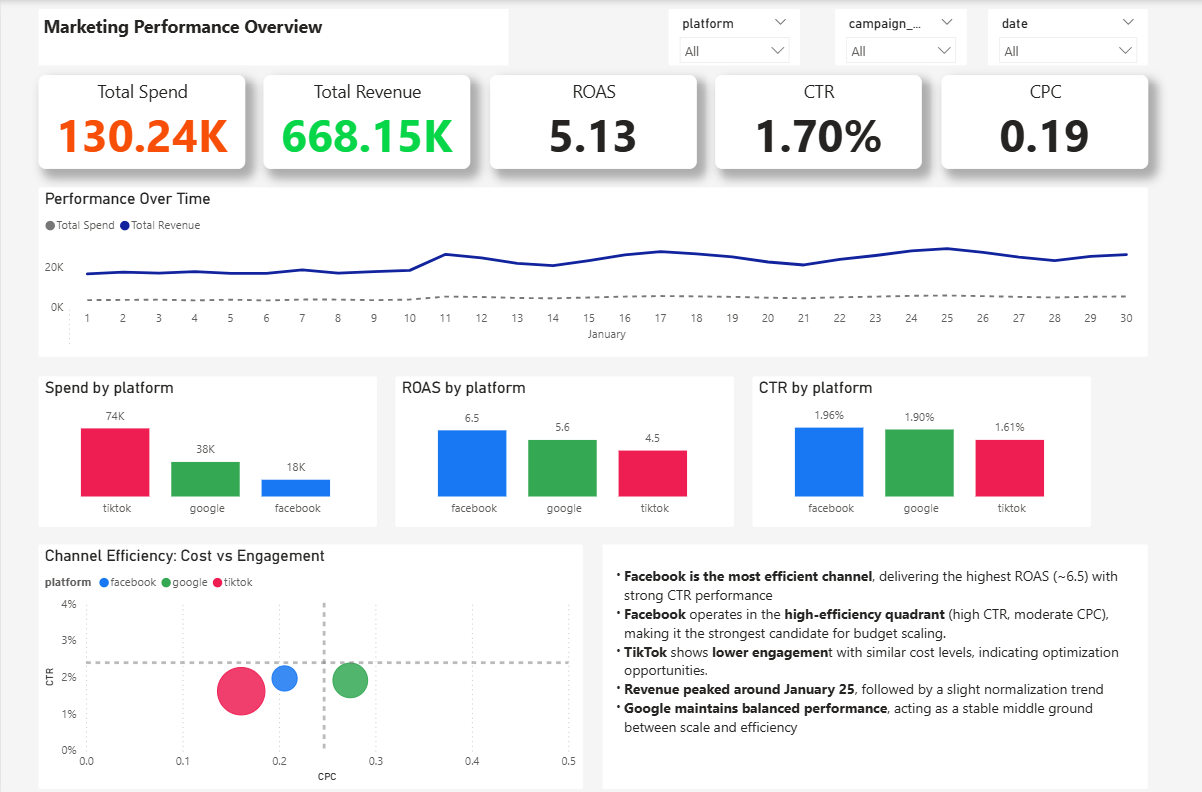

The page's visual inventory and layout, read from the dashboard file:
{"tool":"powerbi","page":{"name":"Page 1","canvas":[1280,850],"ordinal":0},"visuals":[{"type":"card","title":"Total Spend","fields":{"Values":["Measures (2).Total Spend"]},"box":[40,80,220,100],"z":0},{"type":"card","title":"CTR","fields":{"Values":["Measures (2).CTR"]},"box":[760,80,220,100],"z":1000},{"type":"card","title":"CPC","fields":{"Values":["Measures (2).CPC"]},"box":[1000,80,220,100],"z":2000},{"type":"card","title":"ROAS","fields":{"Values":["Measures (2).ROAS"]},"box":[520,80,220,100],"z":3000},{"type":"clusteredColumnChart","title":"Spend by platform","fields":{"Category":["unified_ads_clean.platform"],"Y":["Measures (2).Total Spend"]},"box":[40,400,360,160],"z":4000},{"type":"clusteredColumnChart","fields":{"Y":["Measures (2).CTR"],"Category":["unified_ads_clean.platform"]},"box":[800,401.2,360,160],"z":5000},{"type":"clusteredColumnChart","fields":{"Y":["Measures (2).ROAS"],"Category":["unified_ads_clean.platform"]},"box":[420,400,360,160],"z":6000},{"type":"lineChart","title":"Performance Over Time","fields":{"Y":["Measures (2).Total Spend","Measures (2).Total Revenue"],"Category":["Calendar.Date.Variation.Date Hierarchy.Month","Calendar.Date.Variation.Date Hierarchy.Day"]},"box":[40,200,1180,180],"z":7000},{"type":"scatterChart","title":"Channel Efficiency: Cost vs Engagement","fields":{"X":["Measures (2).CPC"],"Y":["Measures (2).CTR"],"Series":["unified_ads_clean.platform"],"Size":["Measures (2).Total Spend"]},"box":[40,580,579,260],"z":9000},{"type":"slicer","fields":{"Values":["unified_ads_clean.platform"]},"box":[710,10,140,60],"z":10000},{"type":"slicer","fields":{"Values":["unified_ads_clean.campaign_name"]},"box":[887.1,10,140,60],"z":11000},{"type":"slicer","fields":{"Values":["unified_ads_clean.date"]},"box":[1050,10,170,60],"z":12000},{"type":"card","title":"Total Revenue","fields":{"Values":["Measures (2).Total Revenue"]},"box":[280,80,220,100],"z":13000},{"type":"textbox","box":[40,10,500,60],"z":15000},{"type":"textbox","box":[640,580,580,260],"z":16000}]}

Visuals, with their boxes in screenshot pixels (x1, y1, x2, y2), scaled from the page's 1280x850 canvas onto the 1202x792 screenshot:
"Total Spend" card: locate(38, 75, 244, 168)
"CTR" card: locate(714, 75, 920, 168)
"CPC" card: locate(939, 75, 1146, 168)
"ROAS" card: locate(488, 75, 695, 168)
"Spend by platform" clusteredColumnChart: locate(38, 373, 376, 522)
clusteredColumnChart - Measures (2).CTR x unified_ads_clean.platform: locate(751, 374, 1089, 523)
clusteredColumnChart - Measures (2).ROAS x unified_ads_clean.platform: locate(394, 373, 732, 522)
"Performance Over Time" lineChart: locate(38, 186, 1146, 354)
"Channel Efficiency: Cost vs Engagement" scatterChart: locate(38, 540, 581, 783)
slicer - unified_ads_clean.platform: locate(667, 9, 798, 65)
slicer - unified_ads_clean.campaign_name: locate(833, 9, 965, 65)
slicer - unified_ads_clean.date: locate(986, 9, 1146, 65)
"Total Revenue" card: locate(263, 75, 470, 168)
textbox: locate(38, 9, 507, 65)
textbox: locate(601, 540, 1146, 783)
